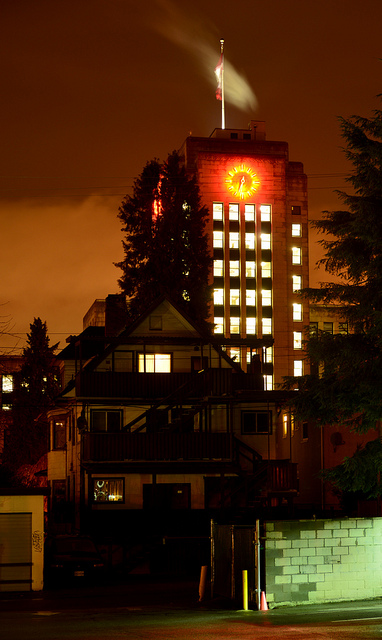car: (44, 526, 112, 588)
